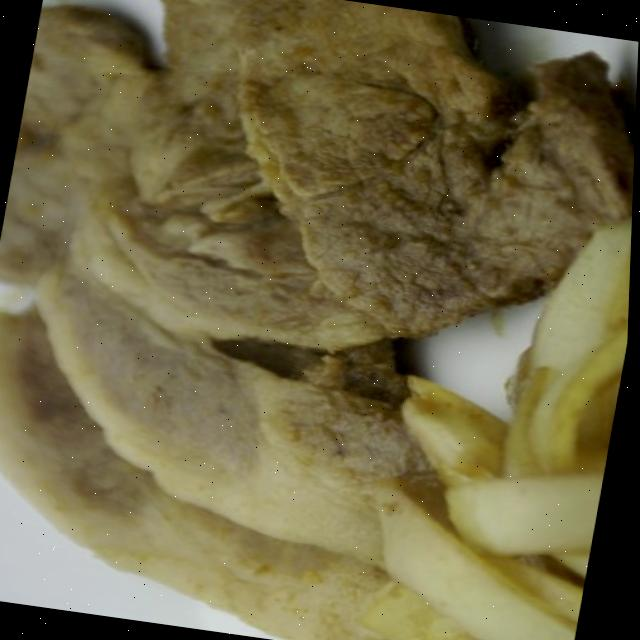猪肉菜式: (0, 0, 473, 640)
